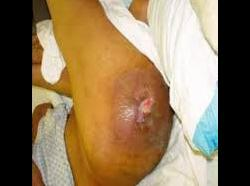Stage4: (110, 59, 162, 152)
